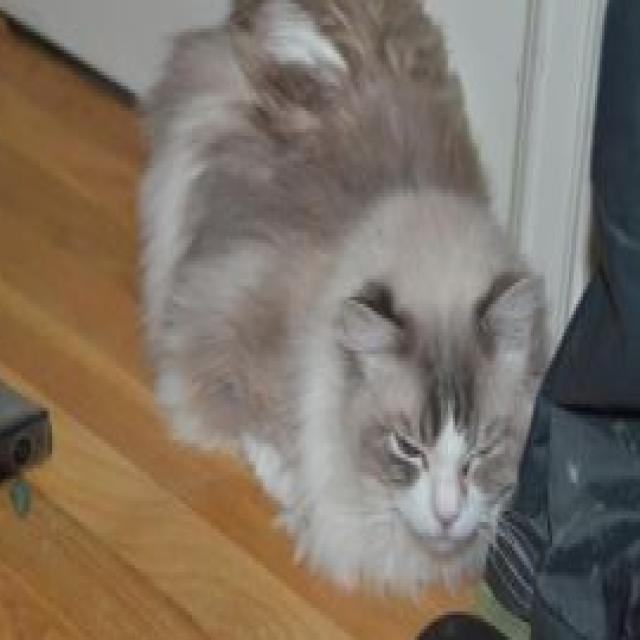Ragdoll: (128, 0, 552, 604)
